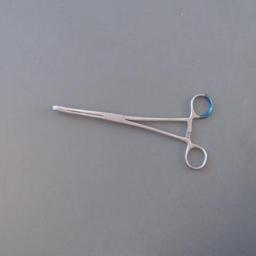Sponge Forceps: (49, 87, 217, 173)
